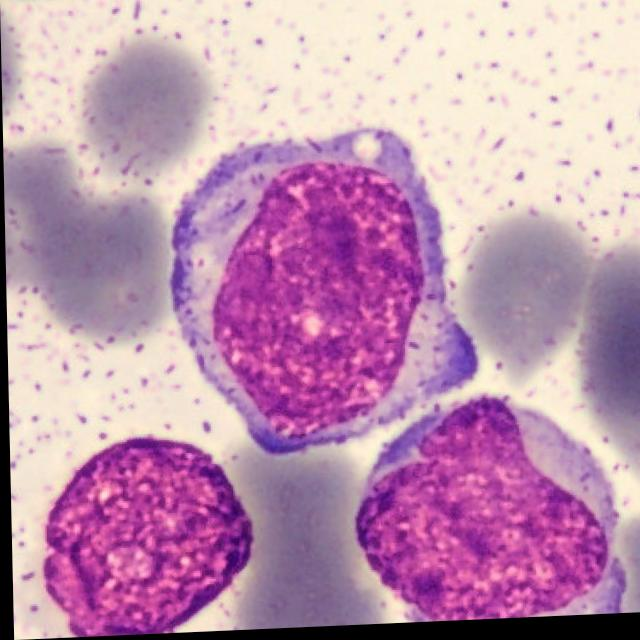Mieloblasto: (169, 132, 475, 458), (352, 401, 622, 626), (40, 440, 253, 638)
